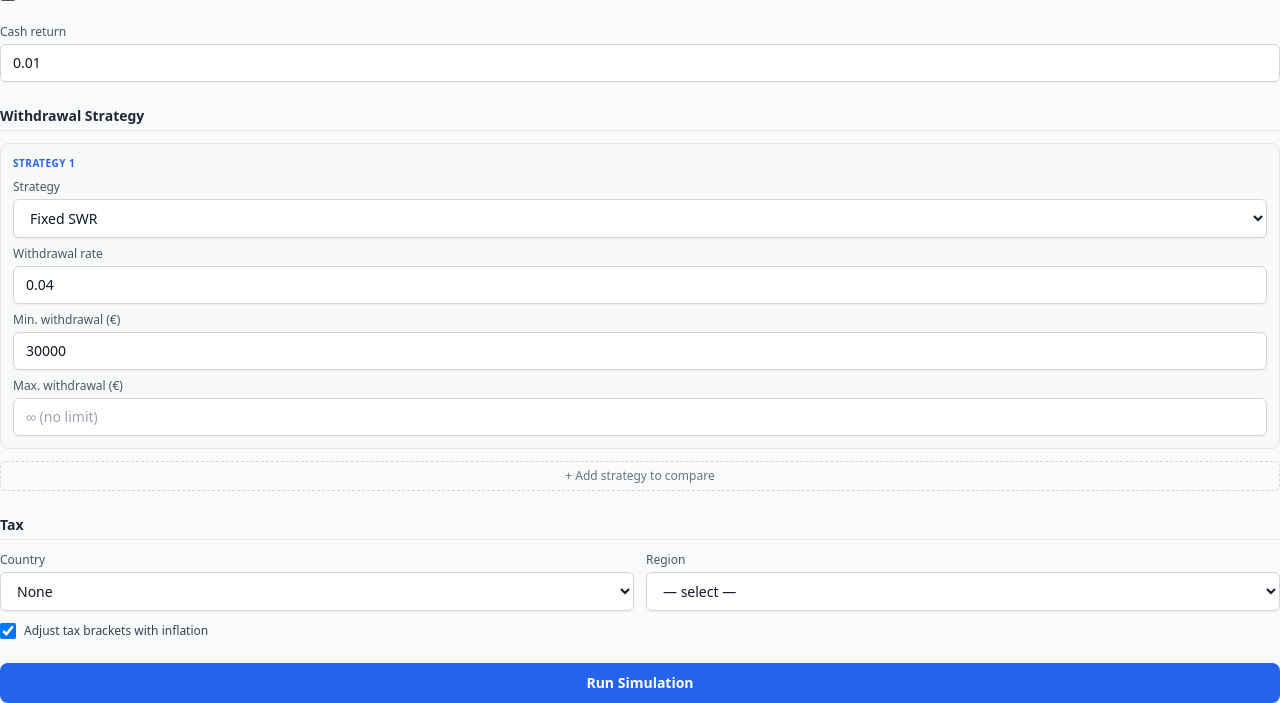
Test: ConfigForm strategy management › can add up to 4 strategies total
(page scrolled)
Step 1. Click the button "+ Add strategy to compare" → (640, 476), box 0,461 -> 1279,491
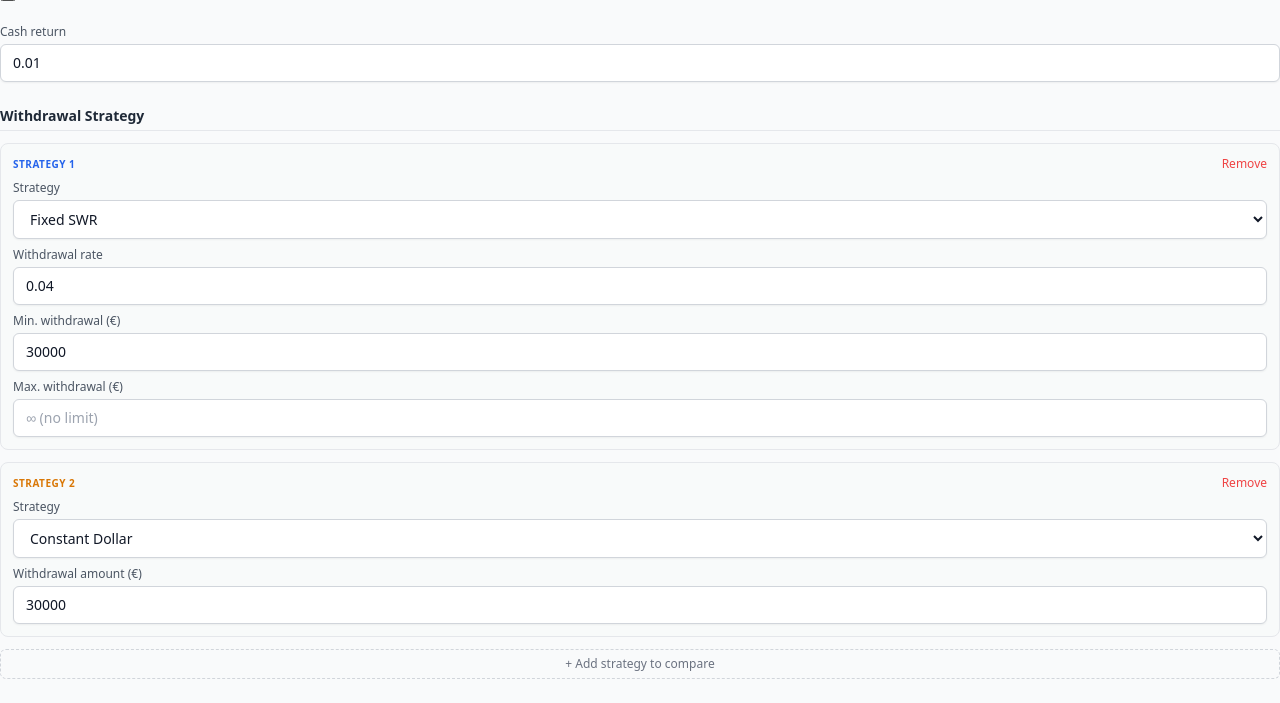
Step 2. Click the button "+ Add strategy to compare" → (640, 664), box 0,649 -> 1279,679
(page scrolled)
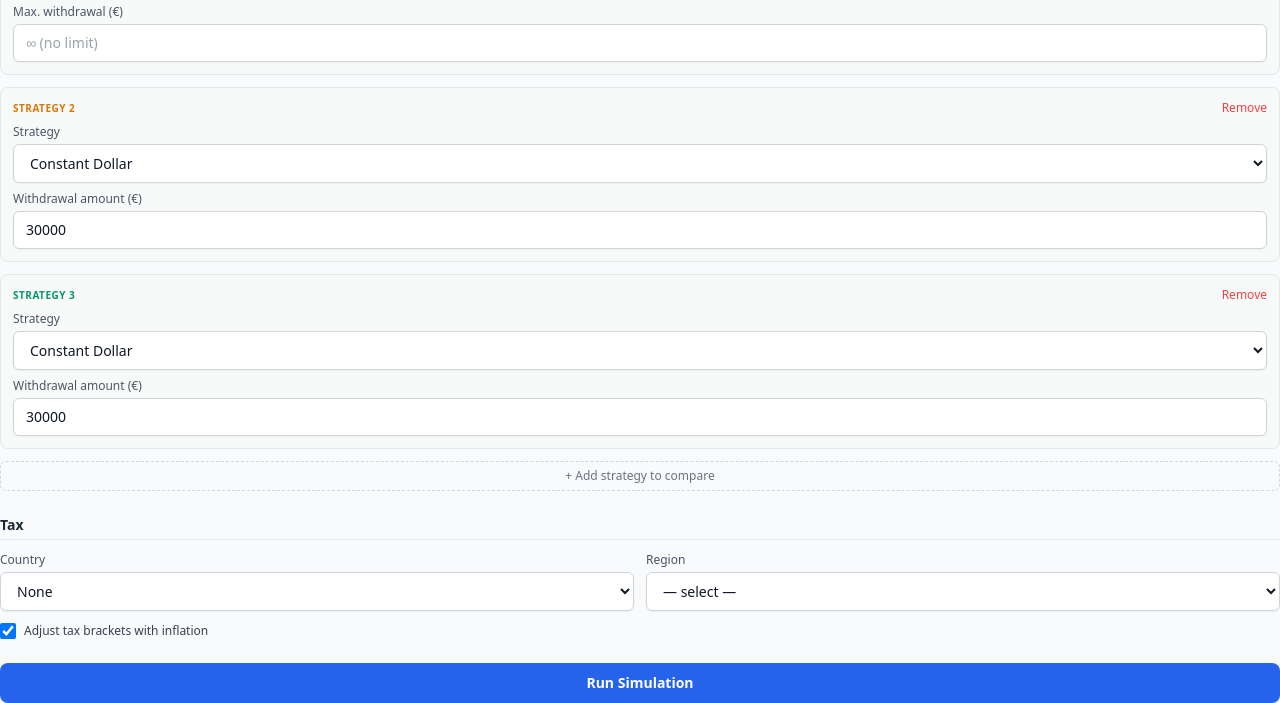
Step 3. Click the button "+ Add strategy to compare" → (640, 476), box 0,461 -> 1279,491
(page scrolled)
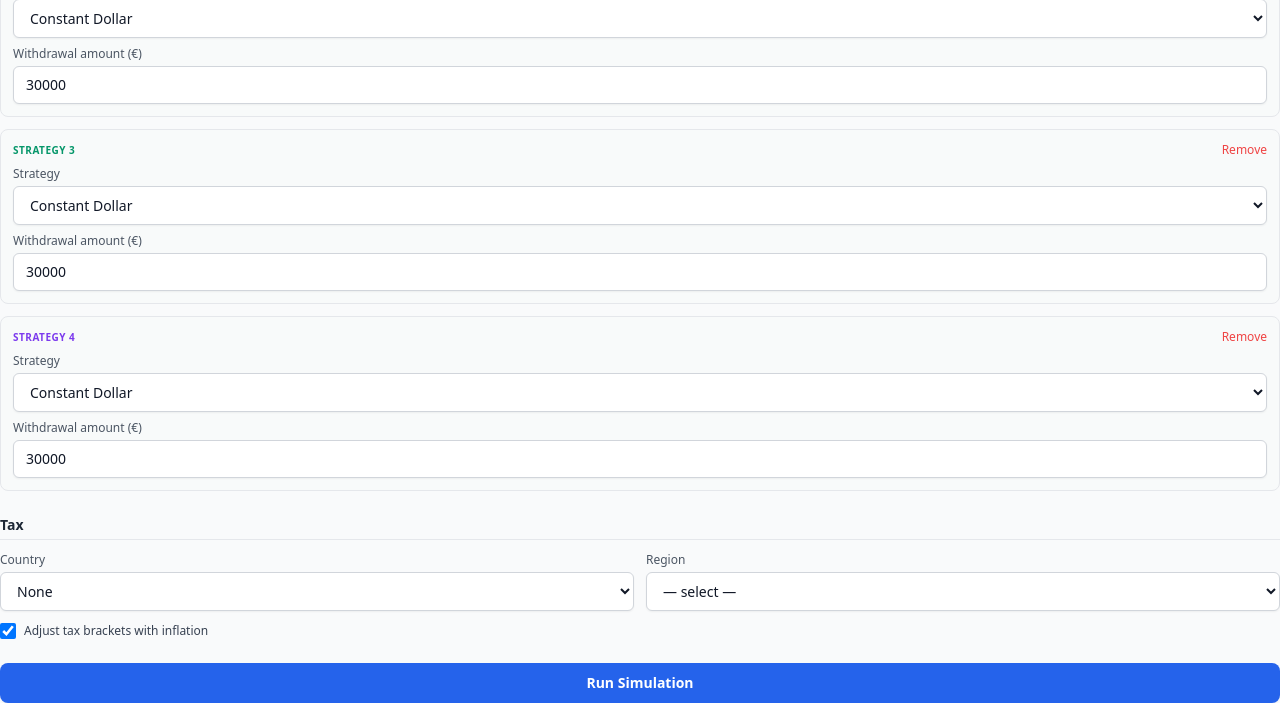
Check: the text "Strategy 4" is shown, box 13,330 -> 75,344
Check: the button "+ Add strategy to compare" is gone
